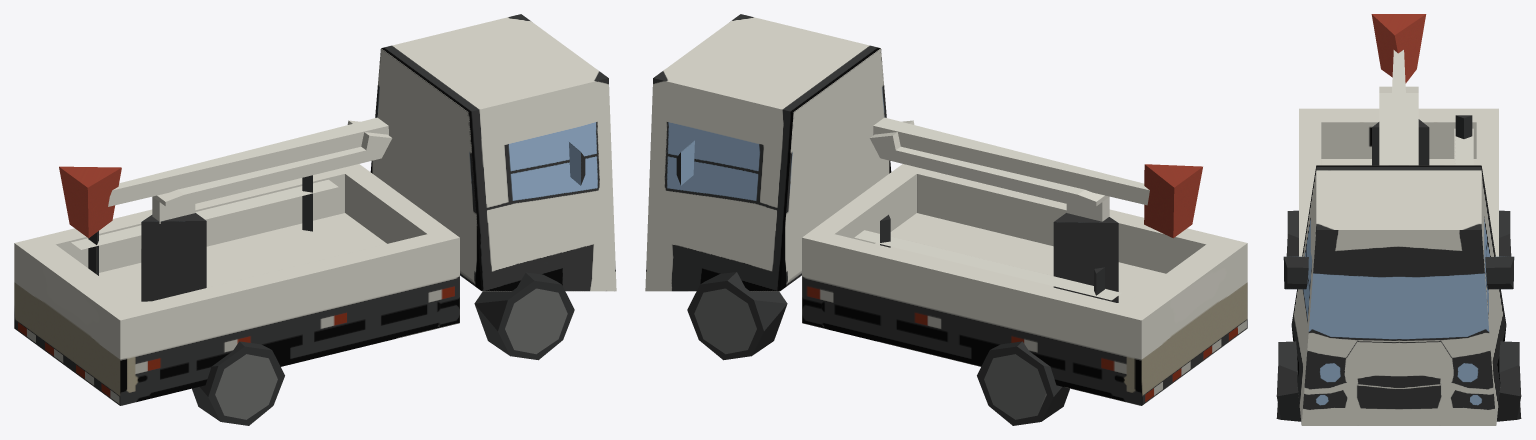
The model's file is caminhaoDeLampadaLOD1.fbx.
3 views of the same model, side by side, from view 1: azimuth 30°, elevation 25°; view 2: azimuth 150°, elevation 25°; view 3: azimuth 270°, elevation 25° (orthographic). The views are drawn at different scales.
Parts seen in each view (by area): view 1: CaminhaoDeLampadaLOD1; view 2: CaminhaoDeLampadaLOD1; view 3: CaminhaoDeLampadaLOD1.
Part boxes in pixels (x1=…): CaminhaoDeLampadaLOD1: x1=14, y1=14, x2=616, y2=425; CaminhaoDeLampadaLOD1: x1=645, y1=14, x2=1247, y2=425; CaminhaoDeLampadaLOD1: x1=1276, y1=14, x2=1521, y2=425.
Size of the model in its own units: 803 by 377 by 363.
1 material, 1 textured.
